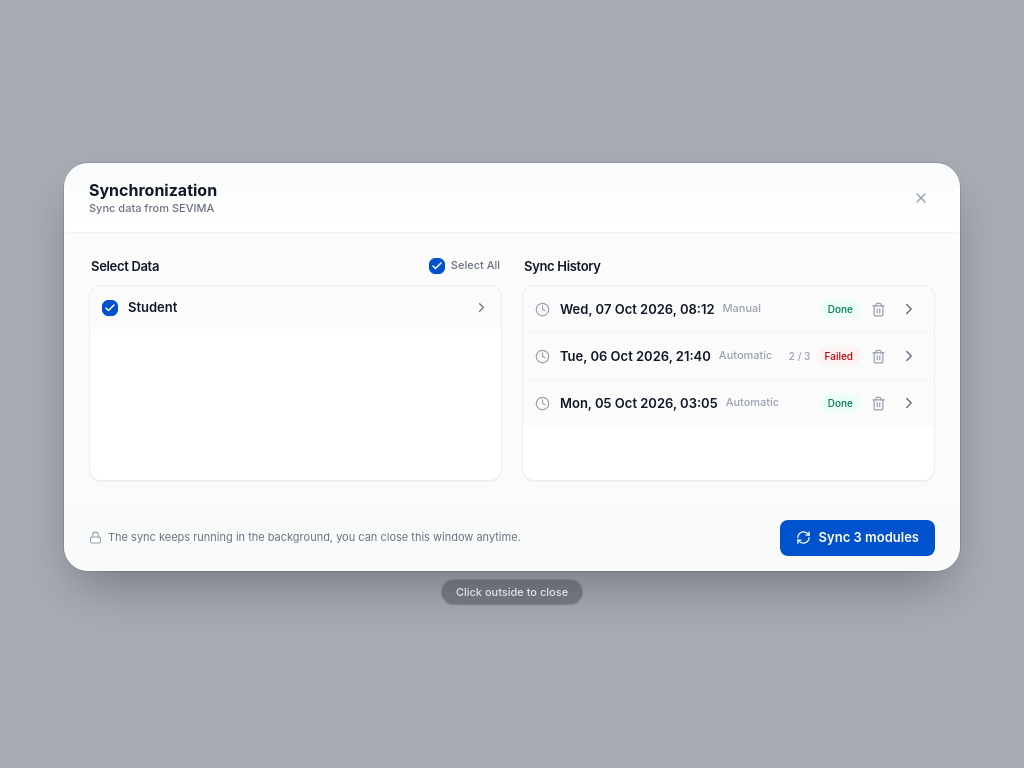
Synchronization modal terhubung ke server › mengklik bagian mana pun dari baris riwayat membuka detailnya
Click the text "Done" in the row of "Mon, 05 Oct 2026, 03:05". click: (840, 403)
box: top-left (820, 394), bottom-right (861, 412)
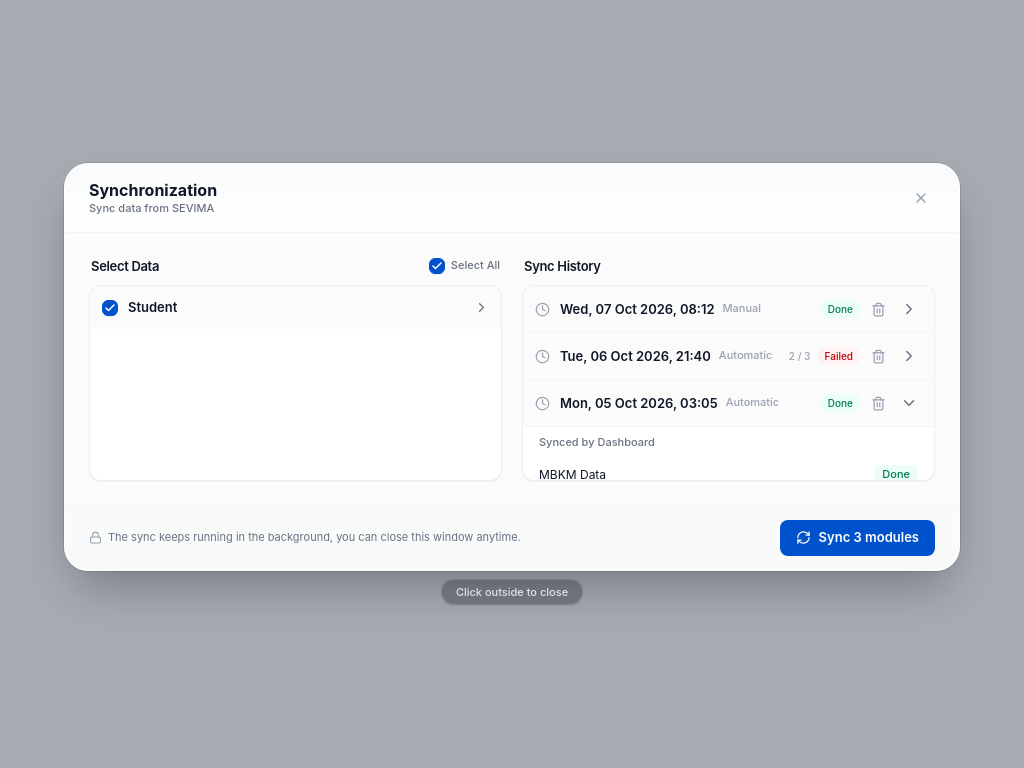
Check: the button named "Collapse details of" is shown, box top-left (896, 390), bottom-right (922, 416)
Check: the text "Synced by Dashboard" is shown, box top-left (539, 435), bottom-right (655, 449)
Check: the text "MBKM Data" is shown once, box top-left (539, 467), bottom-right (606, 481)
